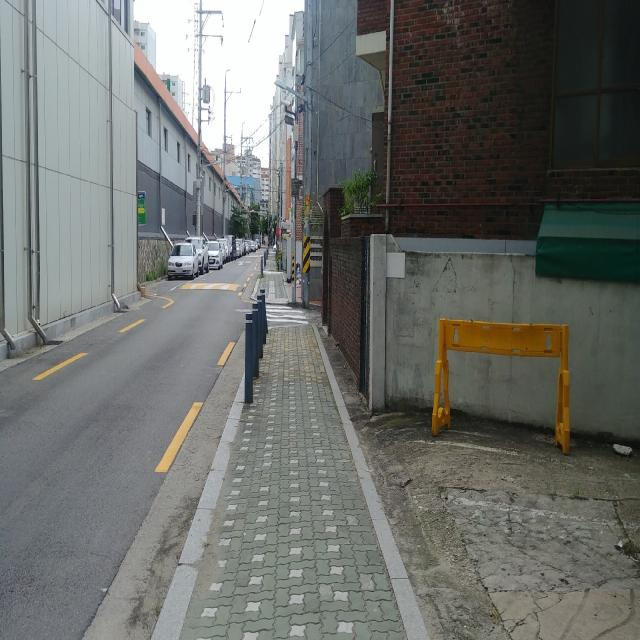횡단보도: (266, 305, 308, 325)
